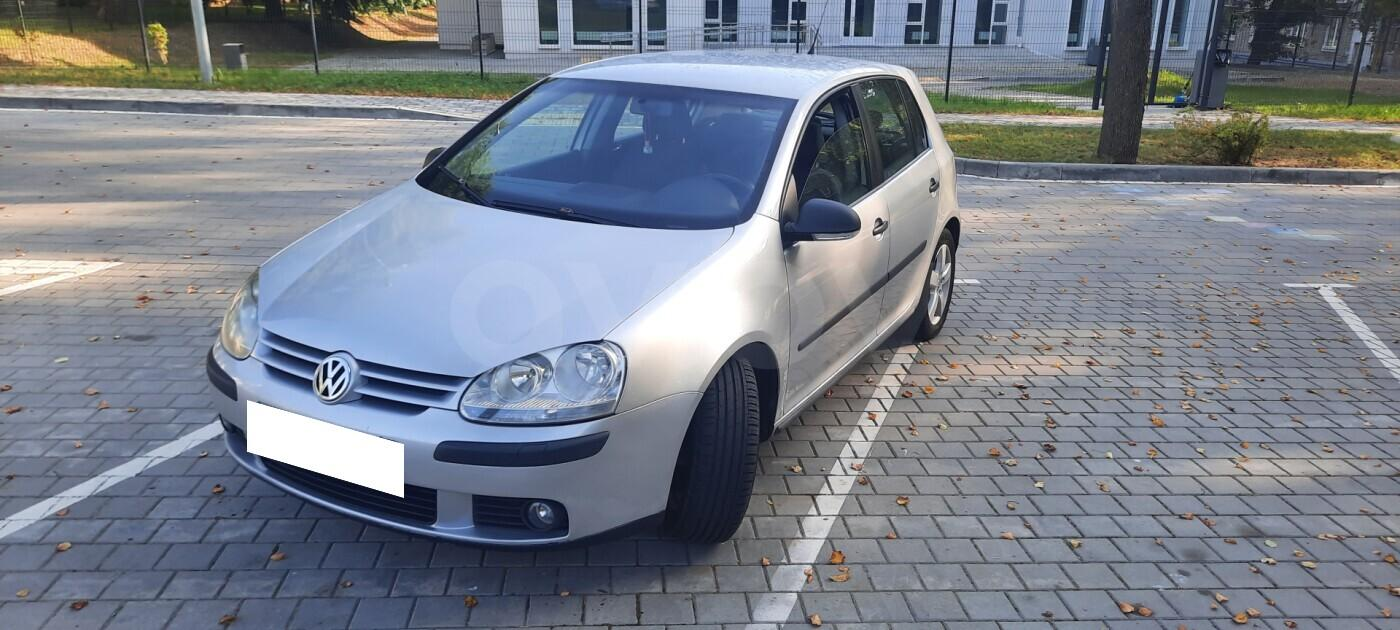Golf_2003-2009: (193, 48, 964, 565)
